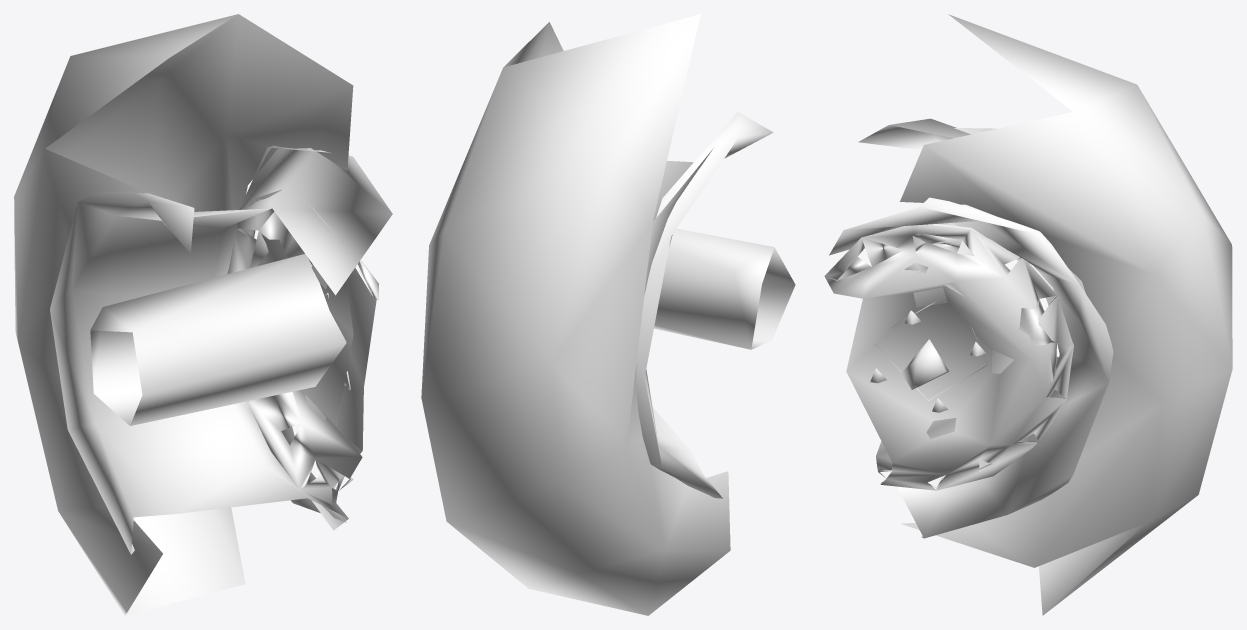
3 views of the same model, side by side, from view 1: azimuth 30°, elevation 25°; view 2: azimuth 150°, elevation 25°; view 3: azimuth 270°, elevation 25° (orthographic). The views are drawn at different scales.
Size of the model in its own units: 0.2601 by 0.606 by 0.4116.
Materials: 1 (1 with a texture image).
